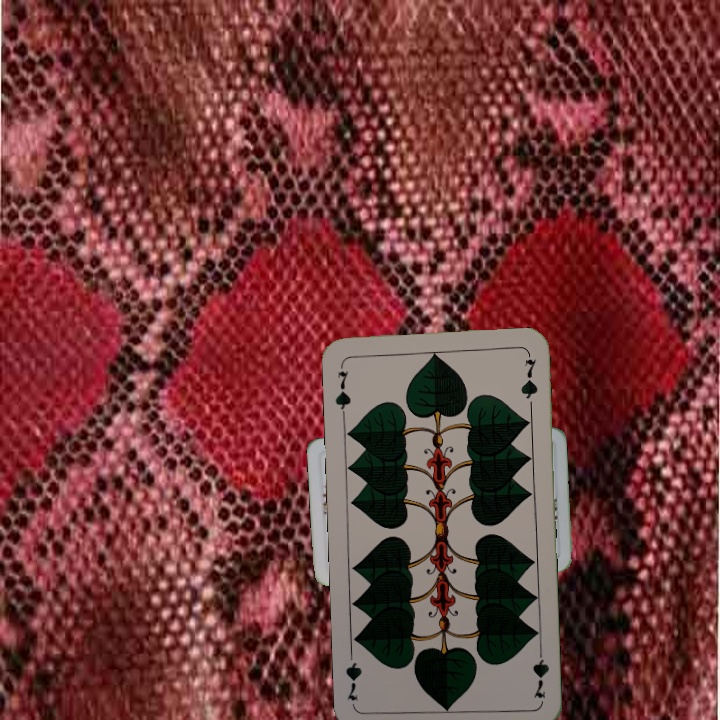G7: (528, 642, 551, 700), (331, 359, 353, 418)
